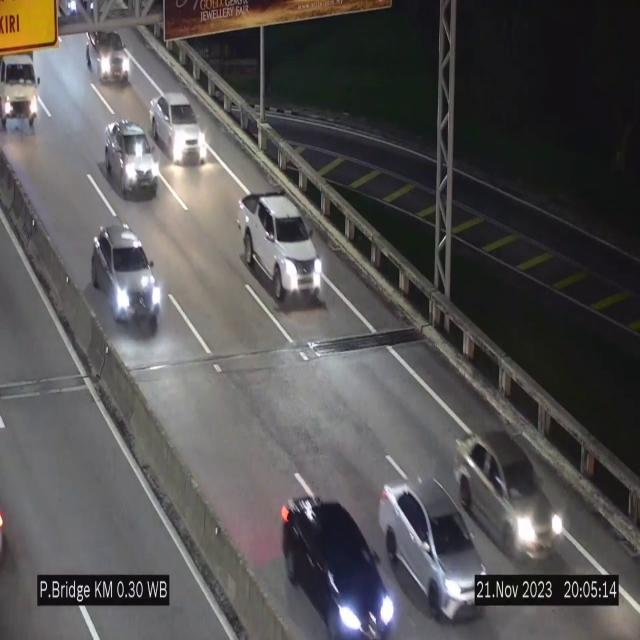Car: (278, 500, 394, 640), (382, 473, 486, 624), (453, 428, 567, 562), (238, 192, 324, 304), (91, 223, 163, 330), (104, 121, 158, 197), (150, 92, 207, 163), (84, 17, 136, 91)
Truck: (0, 28, 44, 136)
